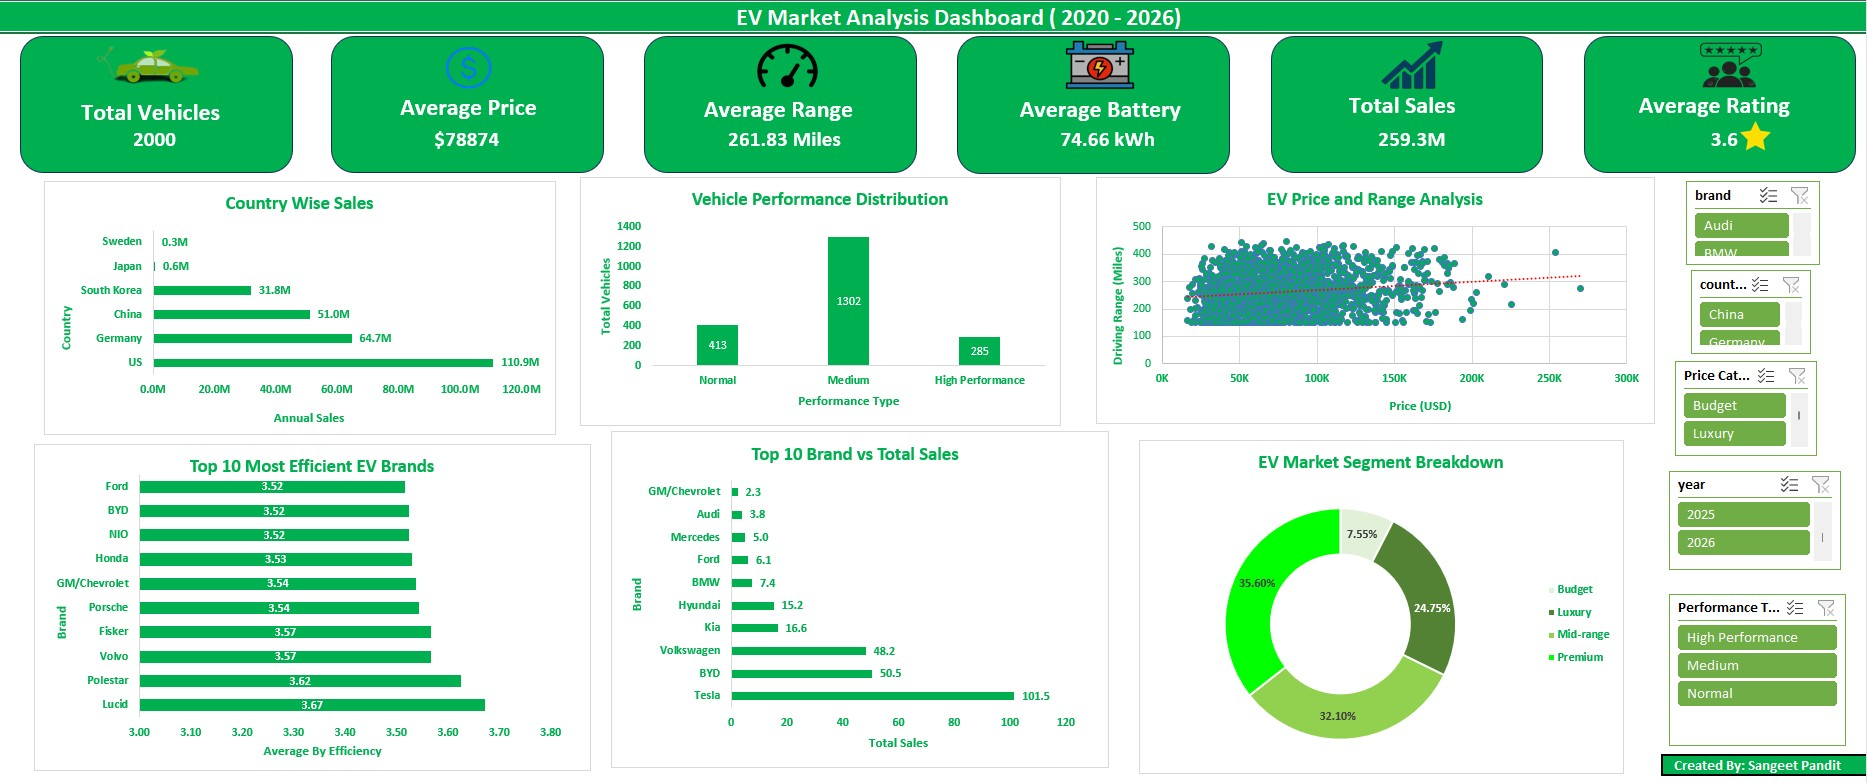

What the dashboard file says about the page in this screenshot:
{"tool":"powerbi","page":{"name":"Page 1","canvas":[3500,3000],"ordinal":0},"visuals":[{"type":"image","box":[0,0,3500.3,3000.9],"z":0},{"type":"cardVisual","fields":{"Data":["CountNonNull(EV Market 2026 Dataset.brand)"]},"box":[42,128,260,284],"z":1000},{"type":"cardVisual","fields":{"Data":["Avg(EV Market 2026 Dataset.Price USD)"]},"box":[350,128,262,284],"z":2000},{"type":"cardVisual","fields":{"Data":["Avg(EV Market 2026 Dataset.range_miles)"]},"box":[658,124,284,284],"z":3000},{"type":"cardVisual","fields":{"Data":["Avg(EV Market 2026 Dataset.Battery Capacity (kwh))"]},"box":[982,122,276,286],"z":4000},{"type":"cardVisual","fields":{"Data":["Sum(EV Market 2026 Dataset.annual_sales_units)"]},"box":[1288,122,290,290],"z":5000},{"type":"cardVisual","fields":{"Data":["Avg(EV Market 2026 Dataset.customer_rating)"]},"box":[1628,122,310,290],"z":6000},{"type":"clusteredBarChart","title":"Country Wise Sales ","fields":{"Y":["Sum(EV Market 2026 Dataset.annual_sales_units)"],"Category":["EV Market 2026 Dataset.country_of_origin"]},"box":[1325,1890,995,555],"z":7000},{"type":"columnChart","title":"Vehicle Performance Distribution","fields":{"Category":["EV Market 2026 Dataset.Performance Type"],"Y":["CountNonNull(EV Market 2026 Dataset.brand)"]},"box":[2497.1,832.4,1003.2,727.2],"z":8000},{"type":"scatterChart","title":"EV Price and Range Analysis","fields":{"X":["EV Market 2026 Dataset.Price USD"],"Y":["EV Market 2026 Dataset.range_miles"]},"box":[45,1795,935,670],"z":9000},{"type":"clusteredBarChart","fields":{"Y":["Avg(EV Market 2026 Dataset.Efficiency)"],"Category":["EV Market 2026 Dataset.brand"]},"box":[2550,1890,765,815],"z":10000},{"type":"donutChart","title":"EV Market Segment Breakdown","fields":{"Category":["EV Market 2026 Dataset.Price Category "],"Y":["CountNonNull(EV Market 2026 Dataset.brand)"]},"box":[2050,120,1345,800],"z":11000},{"type":"clusteredBarChart","title":"Top 10 Brand vs Total Sales ","fields":{"Category":["EV Market 2026 Dataset.brand"],"Y":["Sum(EV Market 2026 Dataset.annual_sales_units)"]},"box":[43.8,591.4,2545.3,1073.3],"z":12000},{"type":"shape","box":[2370,2825,1000,95],"z":13000},{"type":"textbox","box":[2550,2835,640,75],"z":14000},{"type":"shape","box":[715,25,1440,65],"z":15000},{"type":"textbox","box":[900,25,845,130],"z":16000},{"type":"slicer","fields":{"Values":["EV Market 2026 Dataset.brand"]},"box":[40,2575,305,260],"z":17000},{"type":"slicer","fields":{"Values":["EV Market 2026 Dataset.country_of_origin","EV Market 2026 Dataset.country_of_origin"]},"box":[460,2555,300,300],"z":18000},{"type":"slicer","fields":{"Values":["EV Market 2026 Dataset.Price Category "]},"box":[915,2575,305,230],"z":19000},{"type":"slicer","fields":{"Values":["EV Market 2026 Dataset.year"]},"box":[1360,2465,210,370],"z":20000},{"type":"slicer","fields":{"Values":["EV Market 2026 Dataset.Performance Type"]},"box":[1645,2645,350,190],"z":21000},{"type":"image","box":[100,107.7,131.5,162.3],"z":22000},{"type":"image","box":[444,162,74,55],"z":23000},{"type":"image","box":[741.2,141.2,117.5,93.8],"z":24000},{"type":"image","box":[1068,142,103,94],"z":25000},{"type":"image","box":[1375,142,115,104],"z":26000},{"type":"image","box":[1745,149,90,90],"z":27000},{"type":"image","box":[1767.5,315,45,51.2],"z":28000}]}

Visuals, with their boxes on the page's 3500x3000 design canvas (x1, y1, x2, y2). These are canvas units, not pixel positions in the 1867x783 screenshot, which may show the page scaled, cropped or inside an application window:
image: BBox(0, 0, 3500, 3001)
cardVisual - CountNonNull(EV Market 2026 Dataset.brand): BBox(42, 128, 302, 412)
cardVisual - Avg(EV Market 2026 Dataset.Price USD): BBox(350, 128, 612, 412)
cardVisual - Avg(EV Market 2026 Dataset.range_miles): BBox(658, 124, 942, 408)
cardVisual - Avg(EV Market 2026 Dataset.Battery Capacity (kwh)): BBox(982, 122, 1258, 408)
cardVisual - Sum(EV Market 2026 Dataset.annual_sales_units): BBox(1288, 122, 1578, 412)
cardVisual - Avg(EV Market 2026 Dataset.customer_rating): BBox(1628, 122, 1938, 412)
"Country Wise Sales " clusteredBarChart: BBox(1325, 1890, 2320, 2445)
"Vehicle Performance Distribution" columnChart: BBox(2497, 832, 3500, 1560)
"EV Price and Range Analysis" scatterChart: BBox(45, 1795, 980, 2465)
clusteredBarChart - Avg(EV Market 2026 Dataset.Efficiency) x EV Market 2026 Dataset.brand: BBox(2550, 1890, 3315, 2705)
"EV Market Segment Breakdown" donutChart: BBox(2050, 120, 3395, 920)
"Top 10 Brand vs Total Sales " clusteredBarChart: BBox(44, 591, 2589, 1665)
shape: BBox(2370, 2825, 3370, 2920)
textbox: BBox(2550, 2835, 3190, 2910)
shape: BBox(715, 25, 2155, 90)
textbox: BBox(900, 25, 1745, 155)
slicer - EV Market 2026 Dataset.brand: BBox(40, 2575, 345, 2835)
slicer - EV Market 2026 Dataset.country_of_origin x EV Market 2026 Dataset.country_of_origin: BBox(460, 2555, 760, 2855)
slicer - EV Market 2026 Dataset.Price Category : BBox(915, 2575, 1220, 2805)
slicer - EV Market 2026 Dataset.year: BBox(1360, 2465, 1570, 2835)
slicer - EV Market 2026 Dataset.Performance Type: BBox(1645, 2645, 1995, 2835)
image: BBox(100, 108, 232, 270)
image: BBox(444, 162, 518, 217)
image: BBox(741, 141, 859, 235)
image: BBox(1068, 142, 1171, 236)
image: BBox(1375, 142, 1490, 246)
image: BBox(1745, 149, 1835, 239)
image: BBox(1768, 315, 1812, 366)
